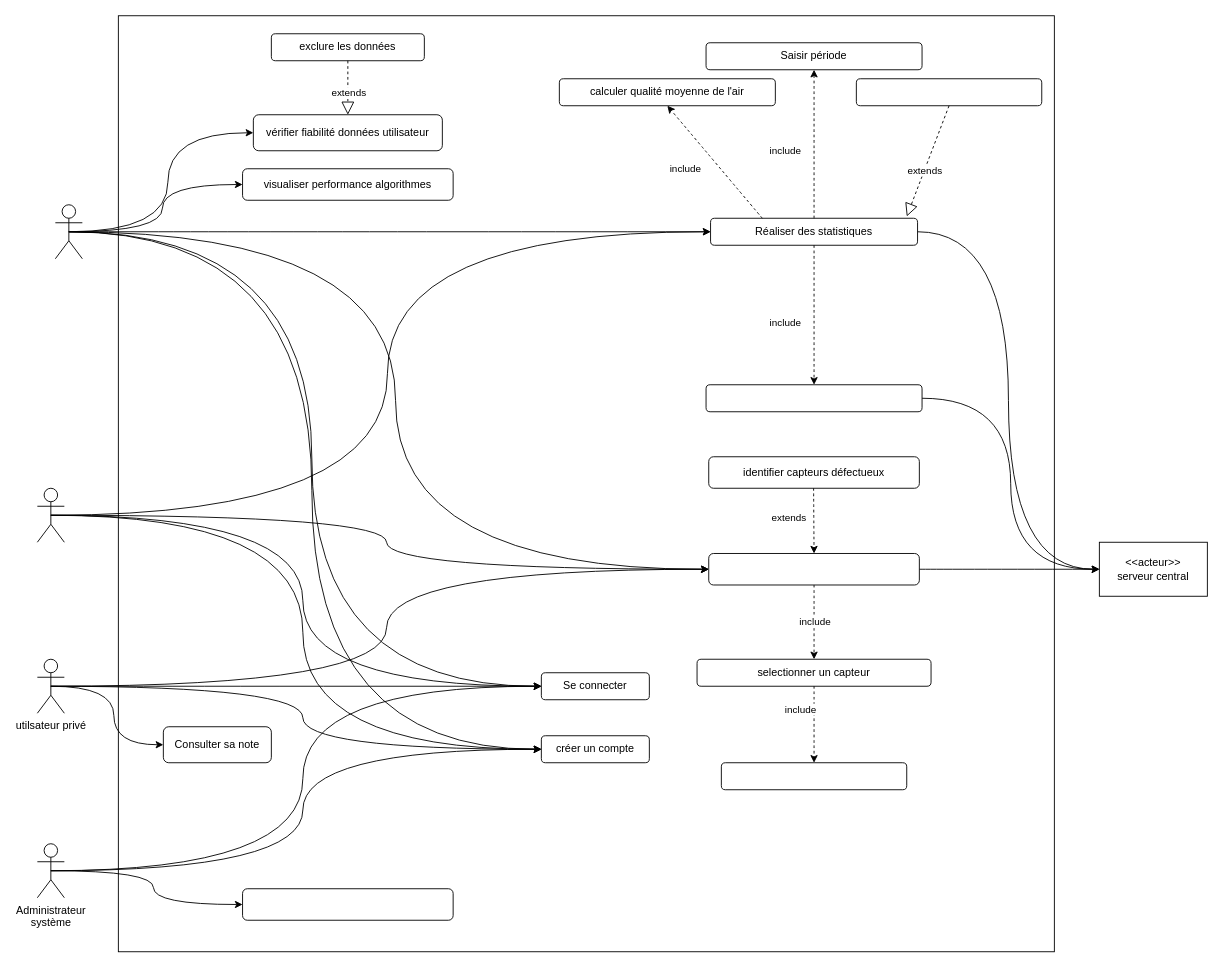
This 1223x975 diagram has some shape labels left out. Here are the shapes that lost their labels. From the top down, the centre of each, then its label:
At [948,92]: "Visualiser l'impact des purificateurs".
At [68,231]: "Gouvernement".
At [813,398]: "Définir zone".
At [50,514]: "Fournisseur".
At [813,569]: "visualiser les données capteurs".
At [813,776]: "Visualiser les capteurs similaires".
At [347,904]: "Maintenir l'application".
